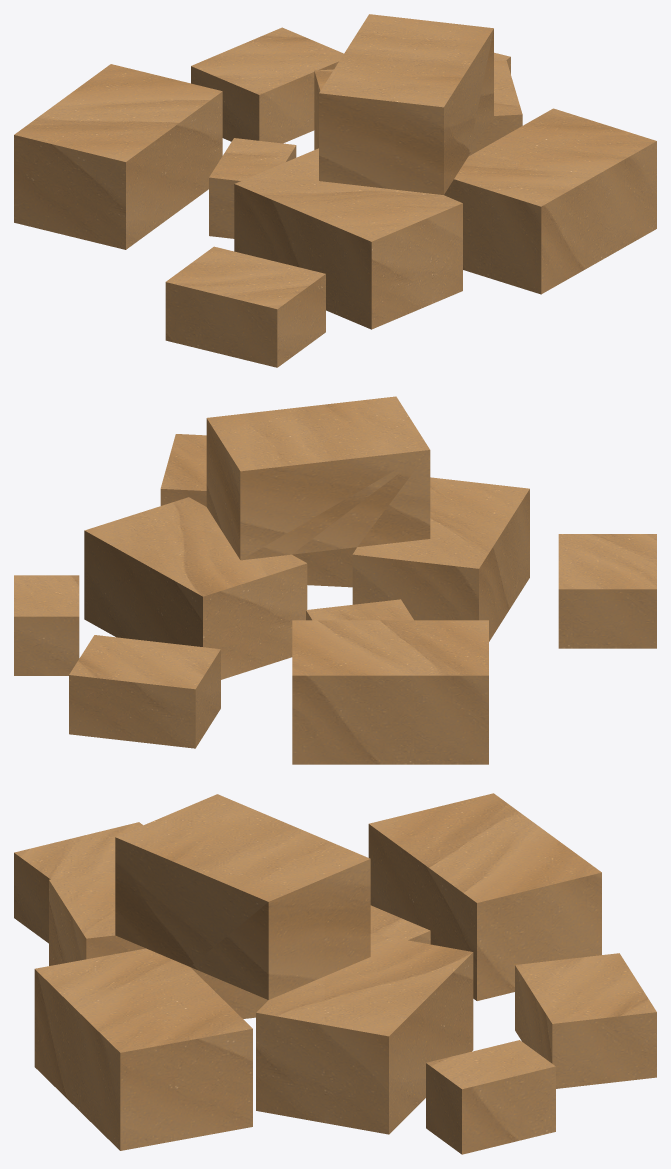
Rendered from debris_stone_sand.glb.
The picture shows the model from 3 angles, top to bottom: view 1: azimuth 30°, elevation 25°; view 2: azimuth 150°, elevation 25°; view 3: azimuth 270°, elevation 25°; orthographic projection. The views are drawn at different scales.
Visible parts, largest first — view 1: Castles_debris-stone; view 2: Castles_debris-stone; view 3: Castles_debris-stone.
Boxes of the visible parts, x1,y1,x2,y2 form: Castles_debris-stone: (14, 14, 656, 367); Castles_debris-stone: (14, 396, 656, 764); Castles_debris-stone: (14, 793, 656, 1154).
Bounding box in the file's own units: 0.8755 × 0.3 × 0.8903.
Materials: 1 (1 with a texture image).
